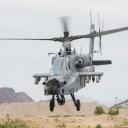helicopter: (14, 17, 126, 115)
